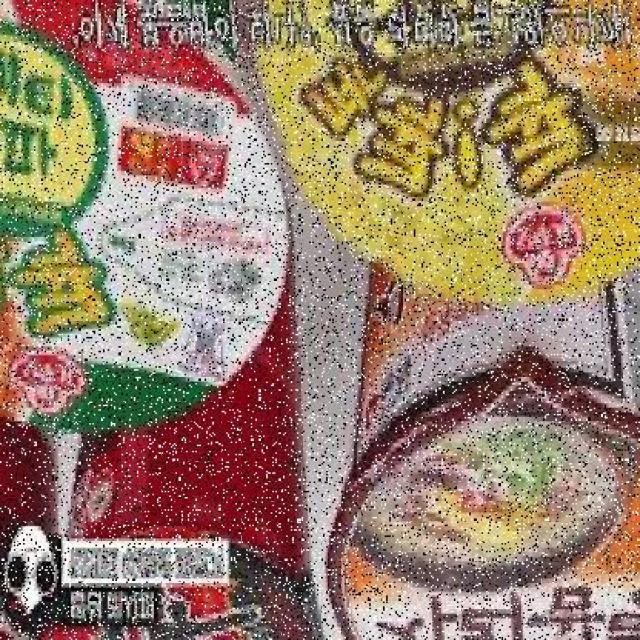Miscellaneous: (329, 192, 640, 640), (0, 0, 303, 443), (44, 171, 310, 640), (249, 0, 640, 308)
